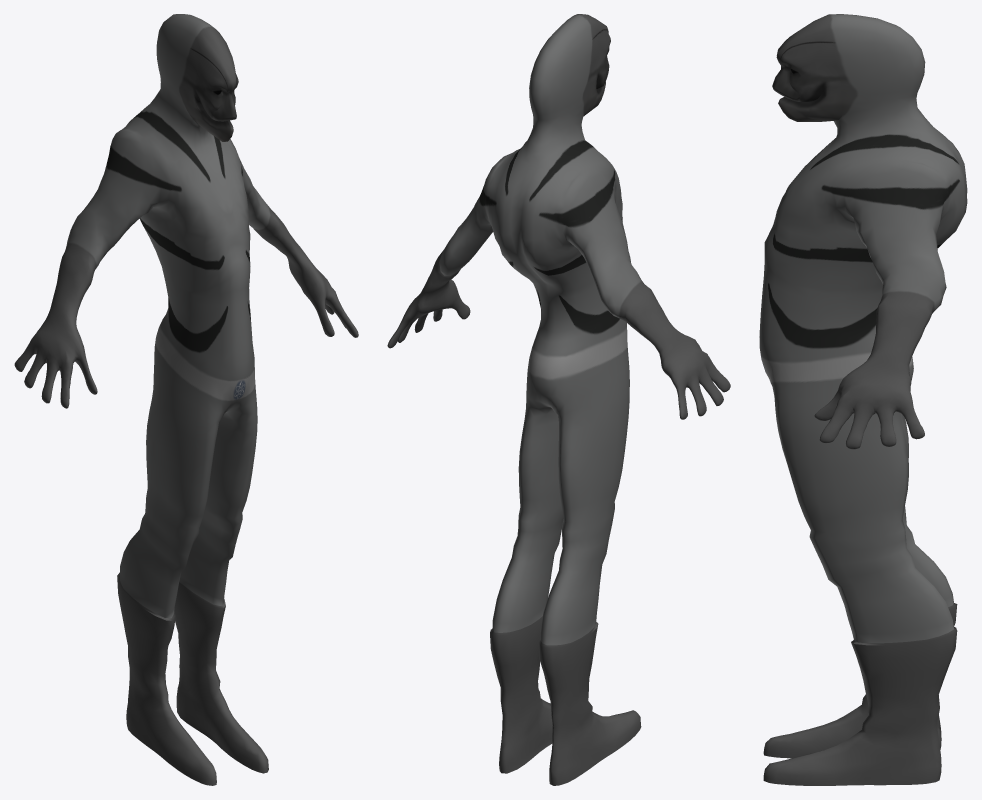
Rendered from putty_low.obj.
3 renders of one model, left to right at view 1: azimuth 30°, elevation 25°; view 2: azimuth 150°, elevation 25°; view 3: azimuth 270°, elevation 25°, orthographic. The views are drawn at different scales.
Parts seen in each view (by area): view 1: s02_putty_msh; view 2: s02_putty_msh; view 3: s02_putty_msh.
Part boxes in pixels (x1,y1,x2,y2): s02_putty_msh: (14,14,358,785); s02_putty_msh: (387,14,730,785); s02_putty_msh: (759,14,967,785).
Size of the model in its own units: 0.34 by 0.774 by 0.194.
